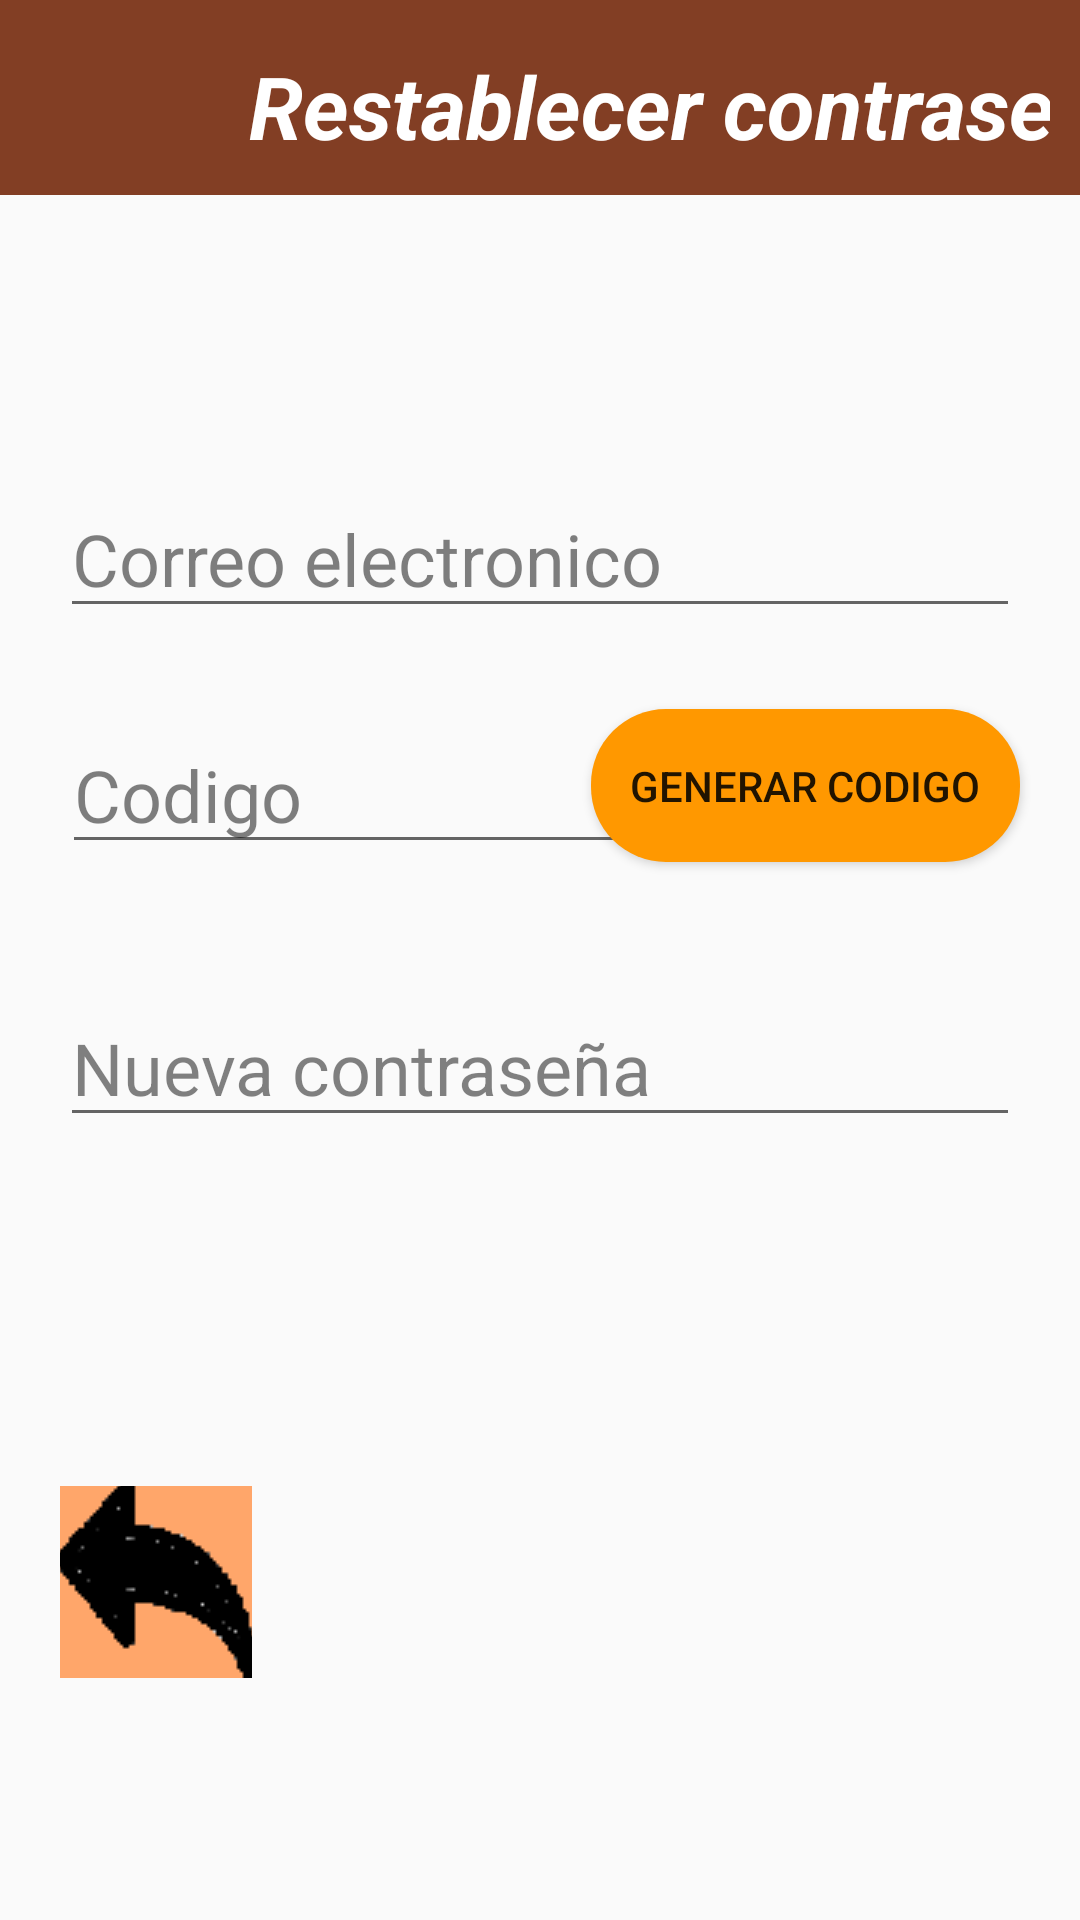

Named icons in this screenshot (1080w x 1920h) and their bounding boxes, (x1, y1, x2, y2):
atras: (60, 1486, 252, 1678)
